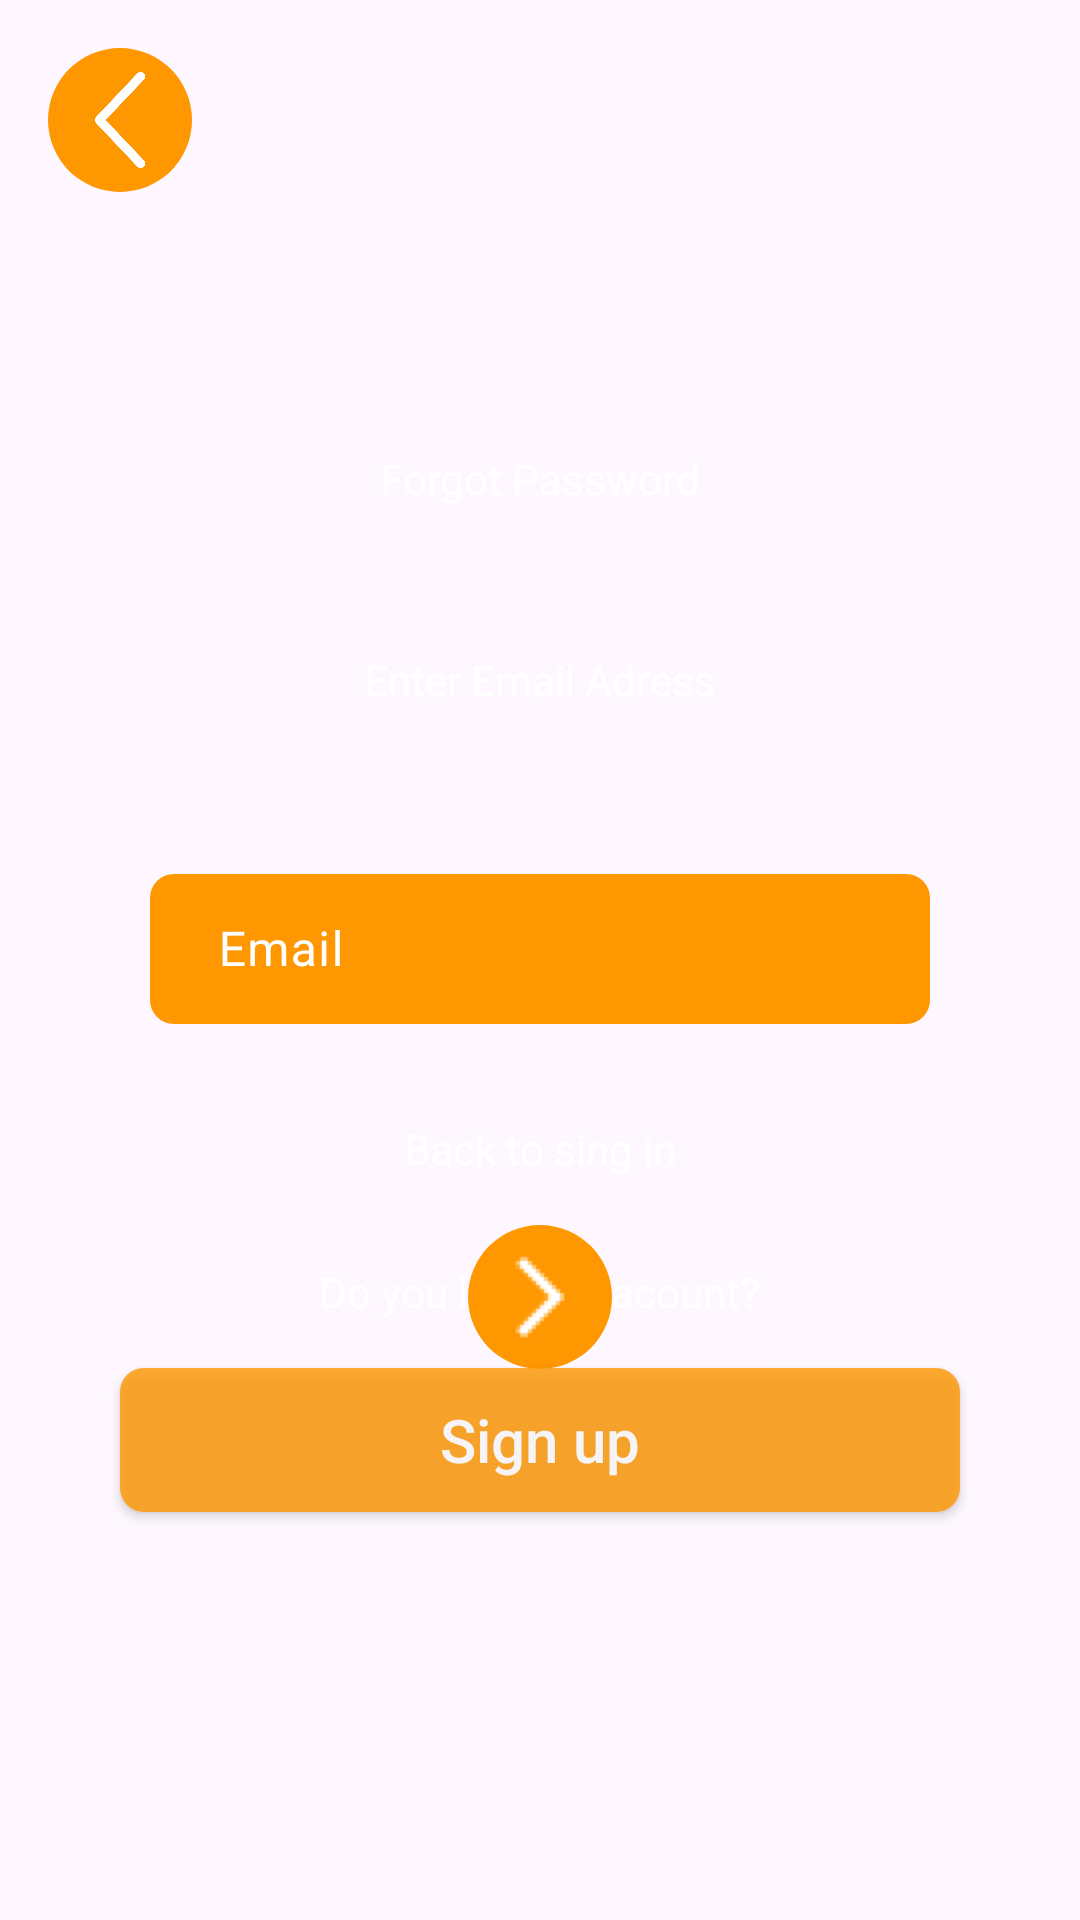

Screen size 1080px x 1920px. Icon name, then its center in pixels as [x,y]:
arro: [540,1297]
